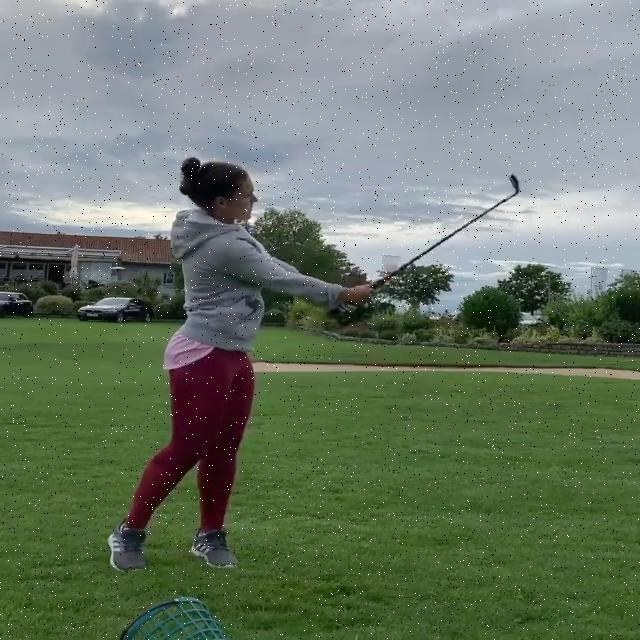ClubHandle: (327, 172, 523, 320)
ClubHead: (508, 174, 521, 192)
